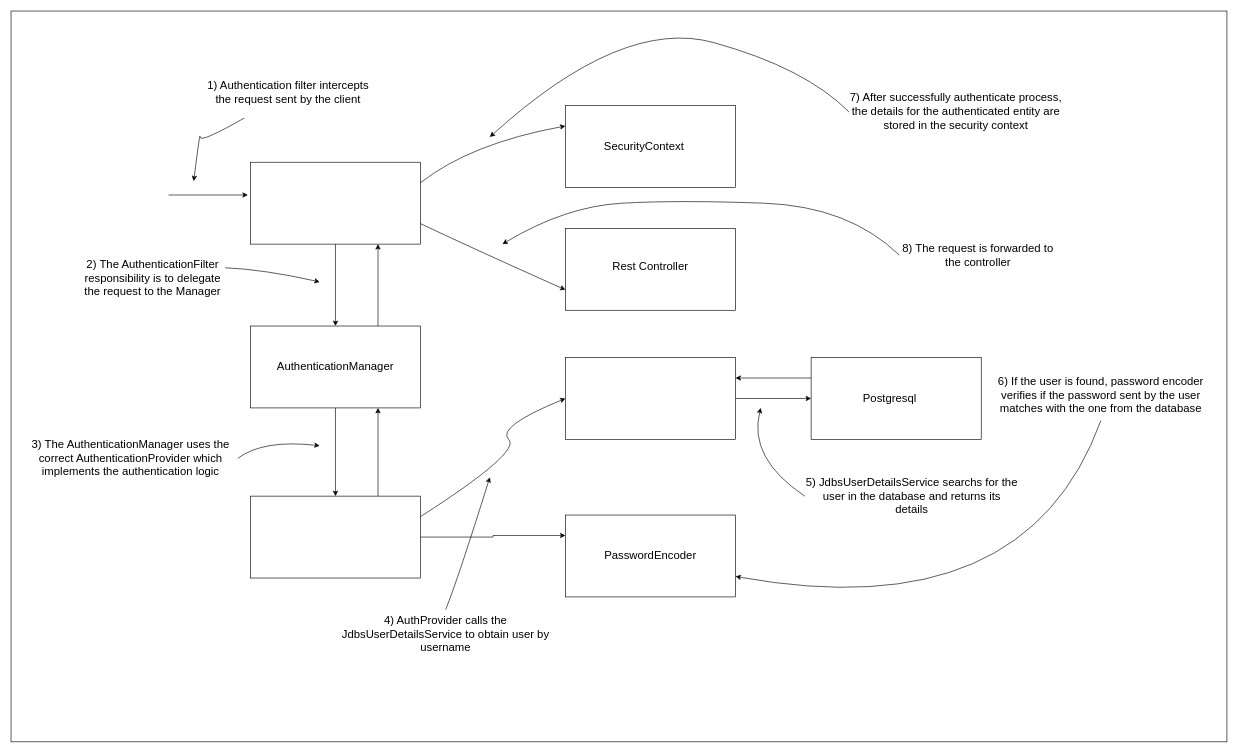
Some shapes in this 1238 by 753 pixel diagram are drawn without their labels. Each missing label, with the box of its shape:
AuthenticationFilter: (250, 162, 421, 244)
AuthenticationProvider: (250, 495, 421, 578)
Jdbc User Details Service: (565, 357, 736, 439)
